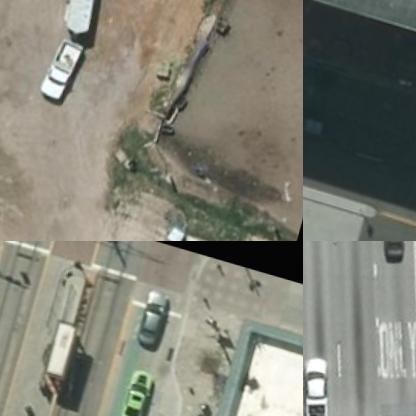car: (40, 28, 92, 104), (133, 280, 181, 349), (303, 351, 351, 415), (119, 361, 161, 415), (303, 96, 336, 147), (373, 241, 415, 264)
